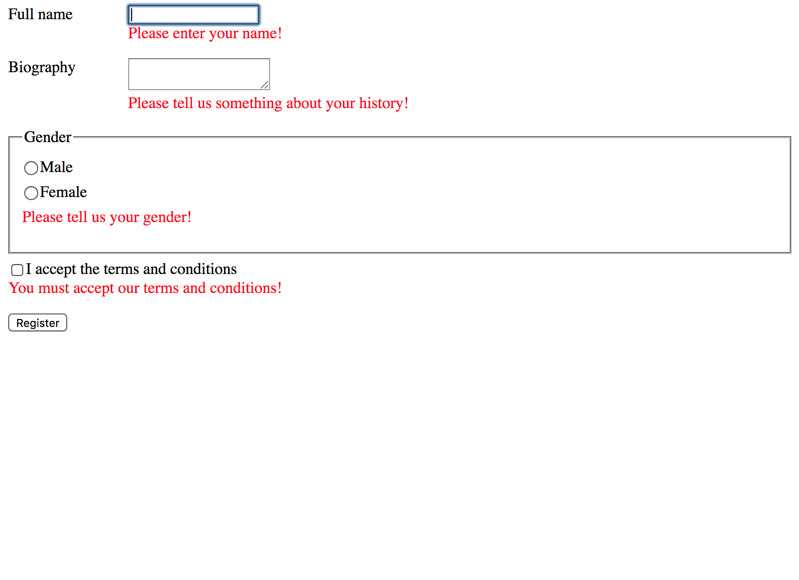error_message: (126, 95, 407, 113), (7, 280, 281, 295), (21, 209, 194, 227), (127, 27, 285, 41)
